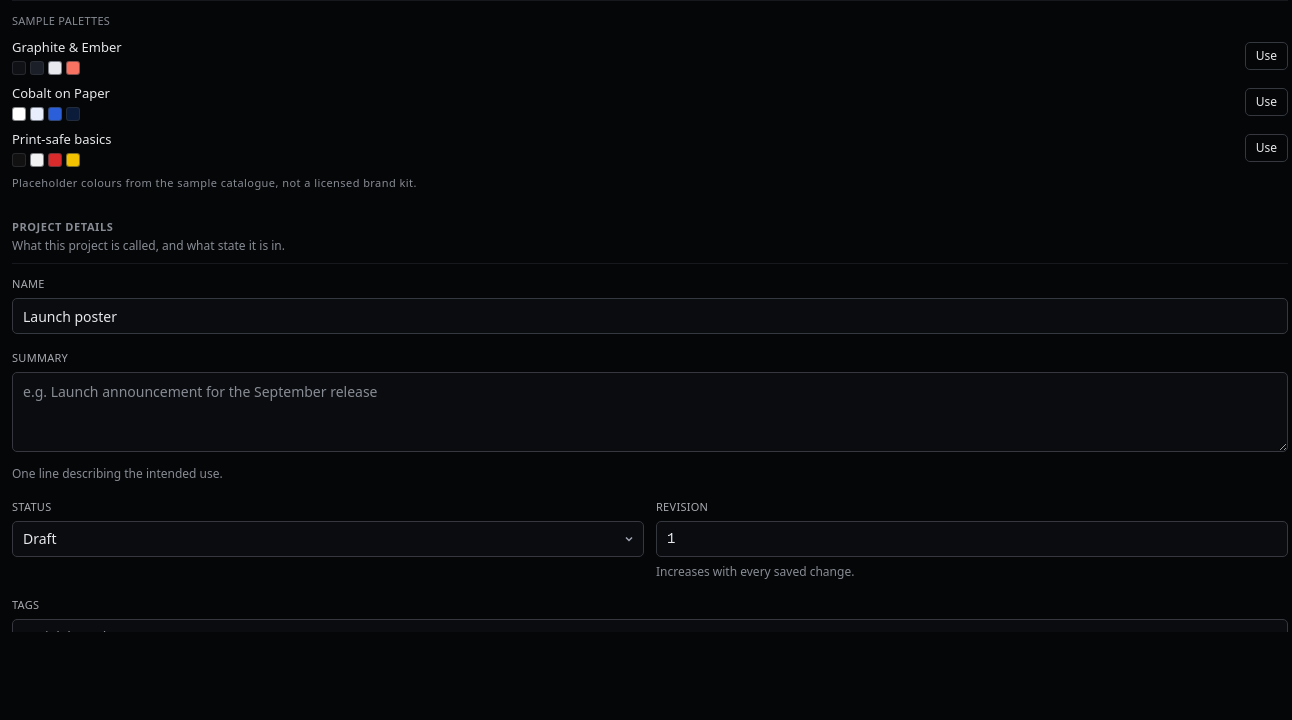
Test case: DocumentAside › refuses an empty name, explains why and keeps the saved value
(page scrolled)
Clear the field labelled "Name" at point(650, 316), box top-left (12, 298), bottom-right (1288, 334)
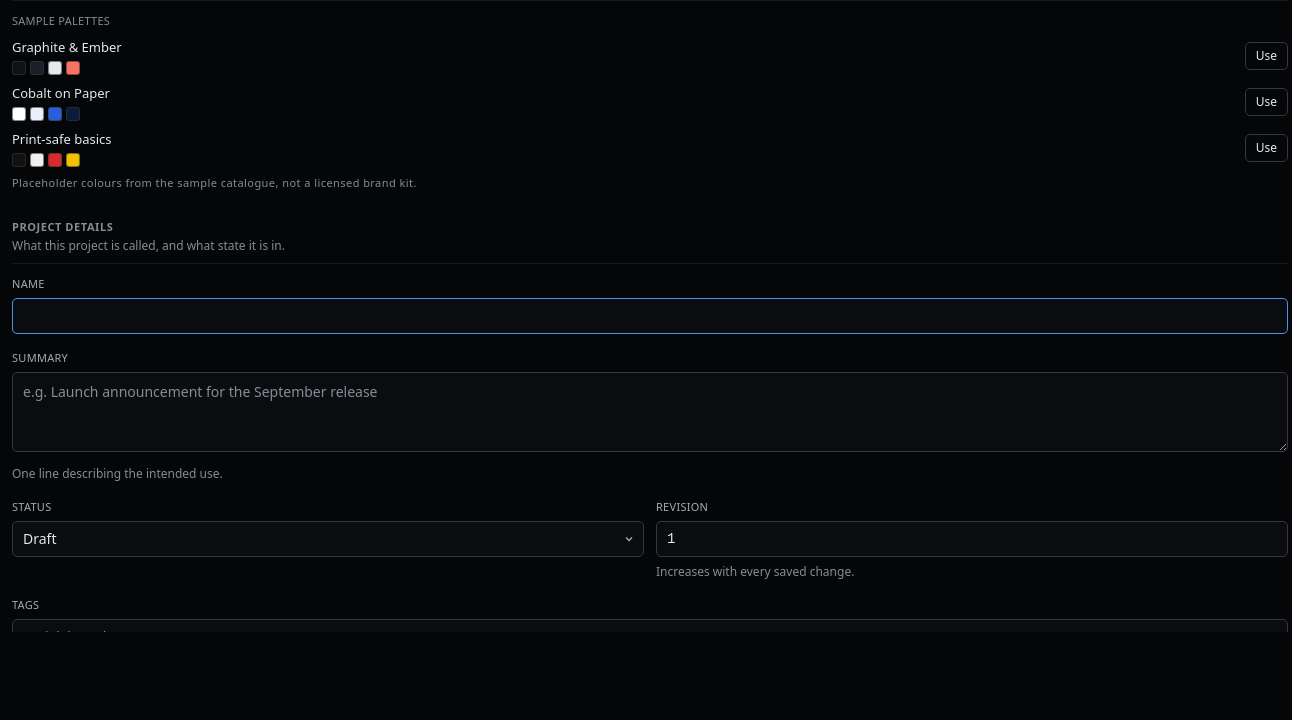
Press Tab
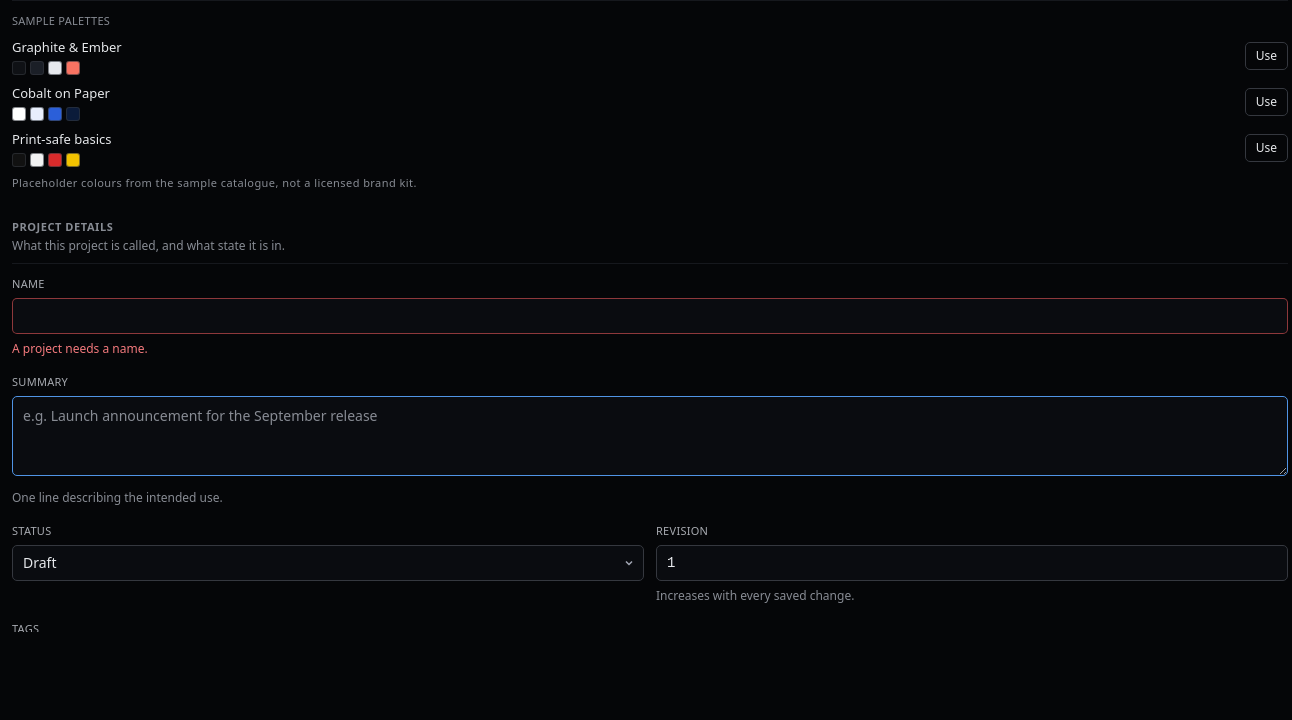
Check: the message shows "name", box top-left (12, 340), bottom-right (148, 357)
